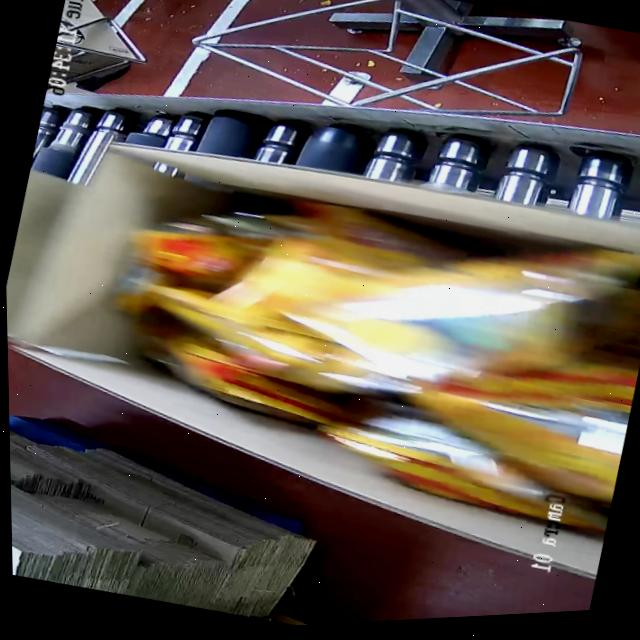FRENCH_CHEESE: (62, 130, 640, 560)
